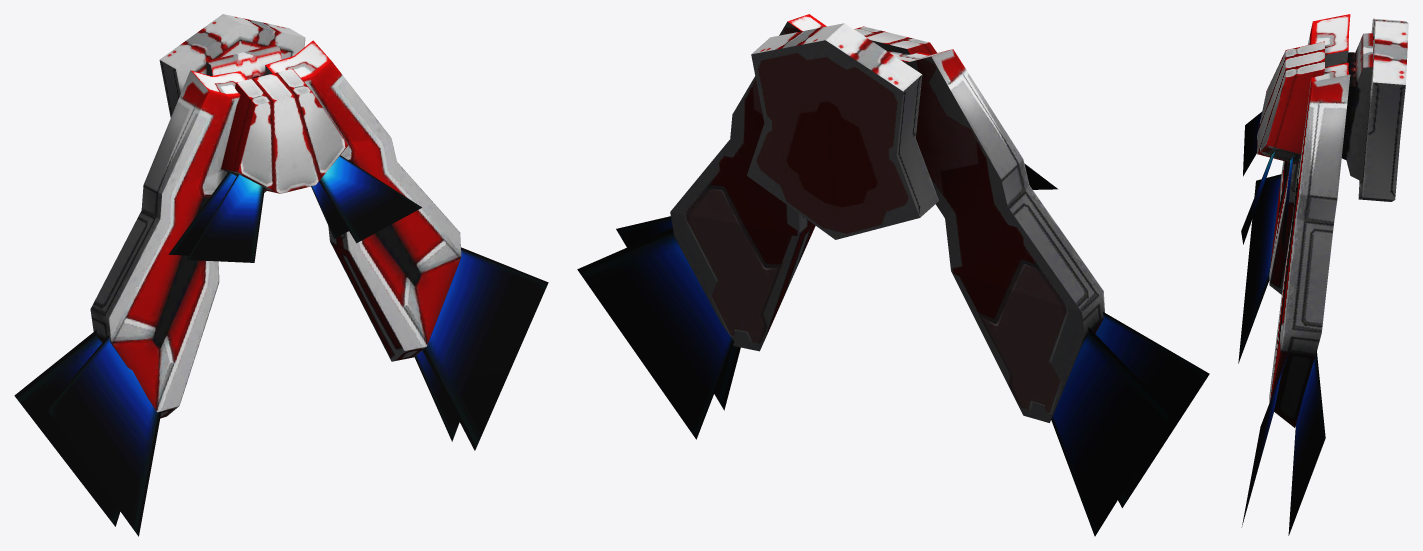
Rendered from ArmorBag_23.obj.
The picture shows the model from 3 angles, left to right: view 1: azimuth 30°, elevation 25°; view 2: azimuth 150°, elevation 25°; view 3: azimuth 270°, elevation 25°; orthographic projection. The views are drawn at different scales.
Parts seen in each view (by area): view 1: ArmorBag_23_03_Plane06, ArmorBag_23_00_fbx_dwings_fly02, ArmorBag_23_01_fbx_dwings_fly02, ArmorBag_23_02_fbx_dwings_fly01; view 2: ArmorBag_23_03_Plane06, ArmorBag_23_00_fbx_dwings_fly02, ArmorBag_23_01_fbx_dwings_fly02; view 3: ArmorBag_23_03_Plane06, ArmorBag_23_01_fbx_dwings_fly02, ArmorBag_23_00_fbx_dwings_fly02, ArmorBag_23_02_fbx_dwings_fly01.
Part boxes in pixels (x1,y1,x2,y2): ArmorBag_23_03_Plane06: (90,14,461,418); ArmorBag_23_00_fbx_dwings_fly02: (14,330,161,536); ArmorBag_23_01_fbx_dwings_fly02: (414,247,548,450); ArmorBag_23_02_fbx_dwings_fly01: (168,155,421,262); ArmorBag_23_03_Plane06: (670,14,1104,422); ArmorBag_23_00_fbx_dwings_fly02: (1051,312,1209,536); ArmorBag_23_01_fbx_dwings_fly02: (577,216,740,439); ArmorBag_23_03_Plane06: (1257,14,1408,427); ArmorBag_23_01_fbx_dwings_fly02: (1241,349,1325,535); ArmorBag_23_00_fbx_dwings_fly02: (1238,174,1281,363); ArmorBag_23_02_fbx_dwings_fly01: (1241,111,1293,252).
Bounding box in the file's own units: 1.79 × 1.45 × 0.518.
Materials: 4 (4 with a texture image).
